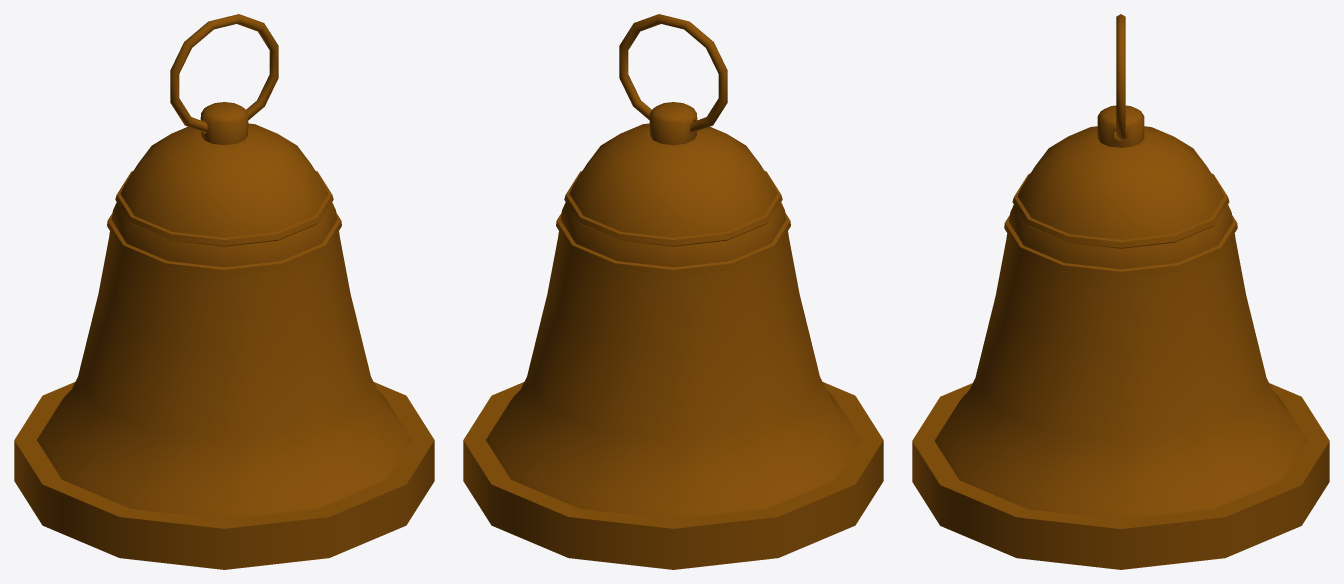
File: bell.fbx
The picture shows the model from 3 angles, left to right: view 1: azimuth 30°, elevation 25°; view 2: azimuth 150°, elevation 25°; view 3: azimuth 270°, elevation 25°; orthographic projection.
Visible parts, largest first — view 1: Bell, Handle; view 2: Bell, Handle; view 3: Bell, Handle.
Boxes of the visible parts, x1,y1,x2,y2 form: Bell: (14, 102, 434, 569); Handle: (170, 14, 278, 132); Bell: (463, 102, 883, 569); Handle: (619, 14, 727, 132); Bell: (912, 105, 1329, 569); Handle: (1116, 14, 1125, 140).
Size of the model in its own units: 1.46 by 2.03 by 1.46.
